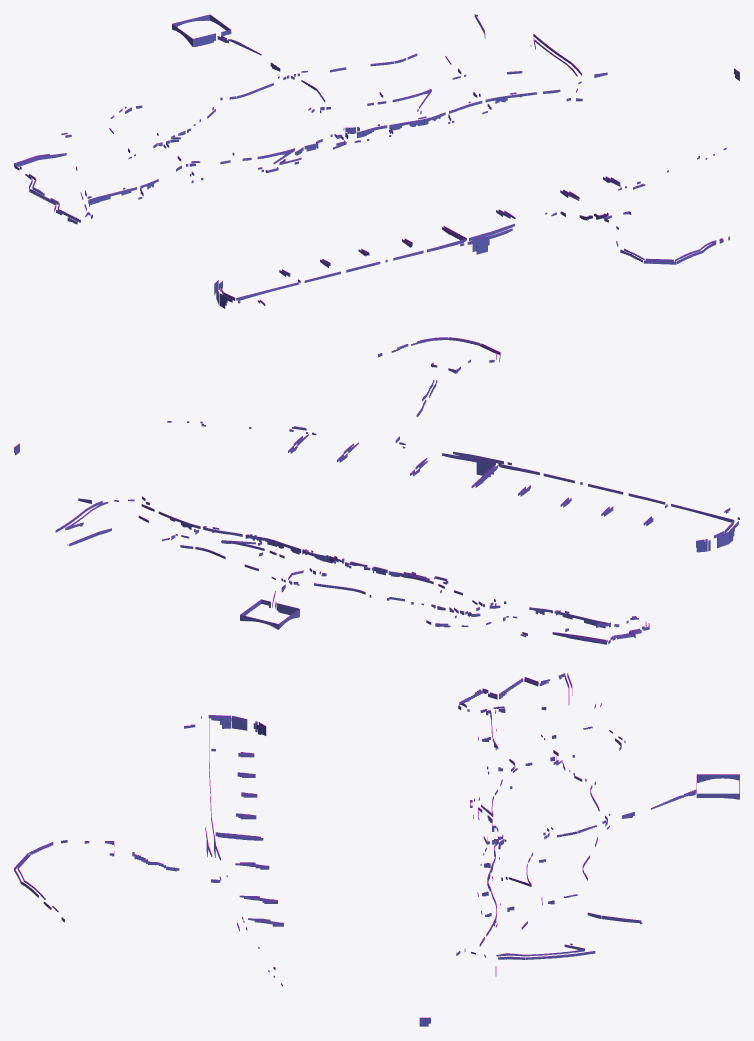
Rendered from walls.fbx.
3 renders of one model, top to bottom at view 1: azimuth 30°, elevation 25°; view 2: azimuth 150°, elevation 25°; view 3: azimuth 270°, elevation 25°, orthographic. The views are drawn at different scales.
Parts seen in each view (by area): view 1: walls; view 2: walls; view 3: walls.
Boxes of the visible parts, x1,y1,x2,y2 form: walls: (14,14,739,308); walls: (14,337,739,644); walls: (14,673,739,1026).
Size of the model in its own units: 696 by 52.8 by 644.
